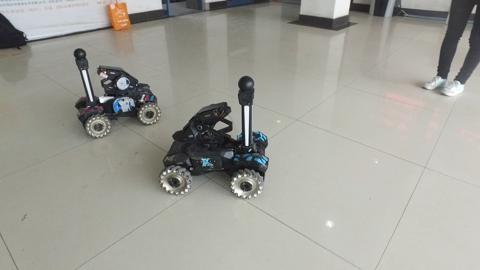chariot: (152, 70, 270, 202), (70, 47, 164, 144)
